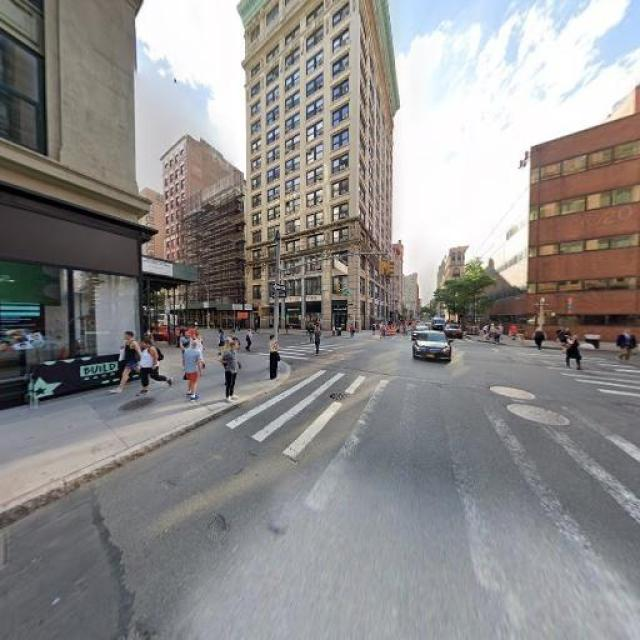Building: (1, 1, 129, 409), (247, 1, 390, 335), (468, 109, 640, 344)
